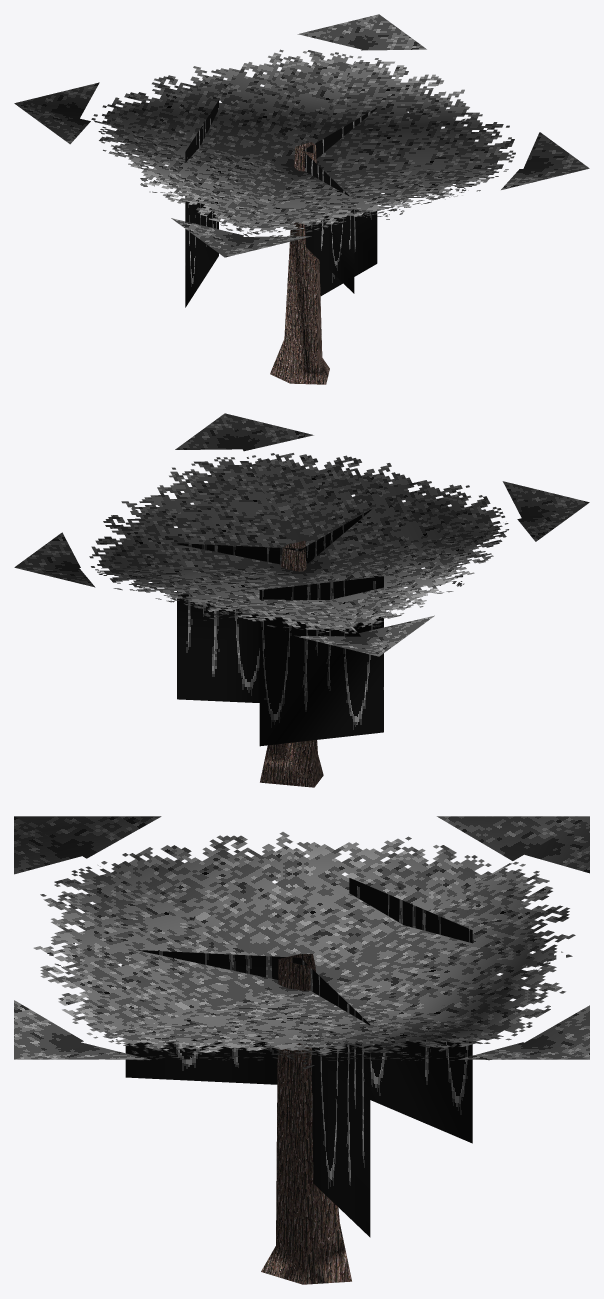
Rendered from Pjungle5_treeZ.obj.
3 views of the same model, one above another, from view 1: azimuth 30°, elevation 25°; view 2: azimuth 150°, elevation 25°; view 3: azimuth 270°, elevation 25° (orthographic). The views are drawn at different scales.
Size of the model in its own units: 3549 by 2229 by 3549.
Materials: 4 (4 with a texture image).
